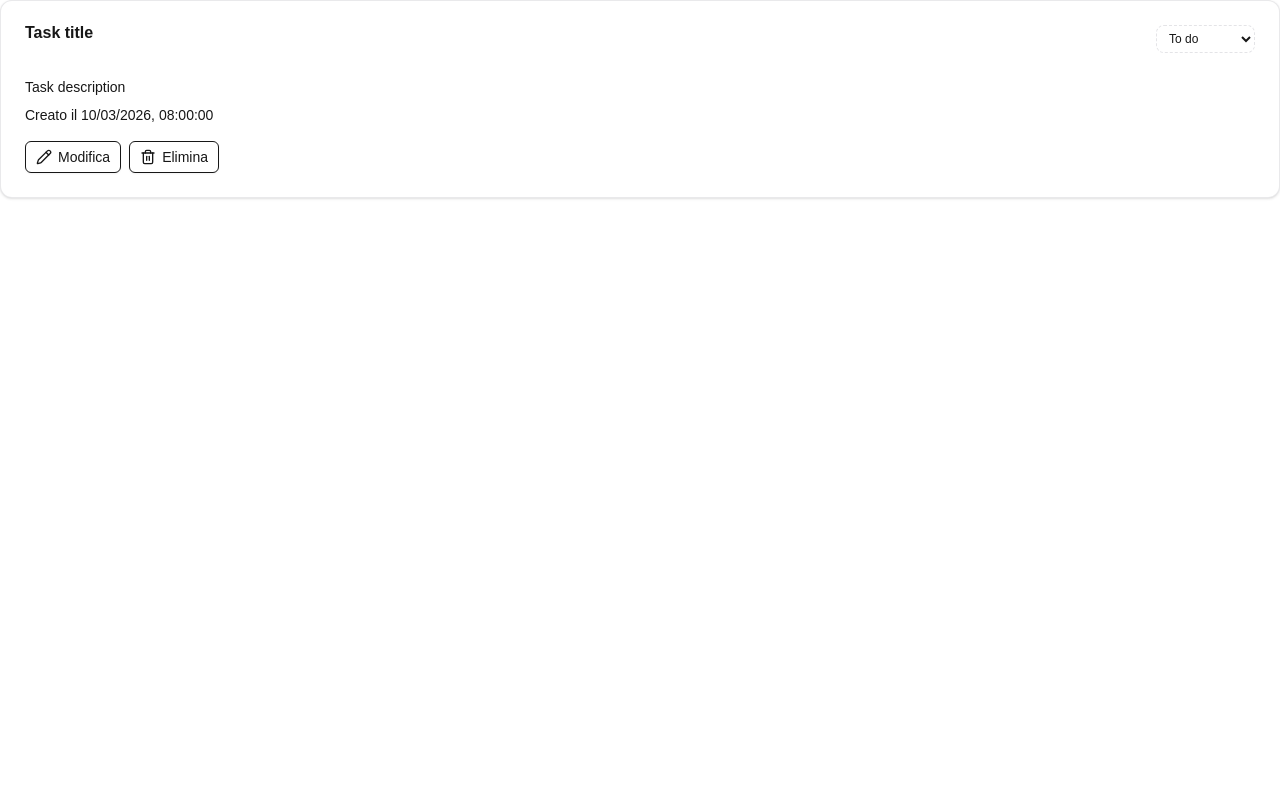
TaskCard › opens edit dialog and validates required fields
The image size is (1280, 800).
Click the button "Modifica": click(73, 157) [25, 141, 121, 173]
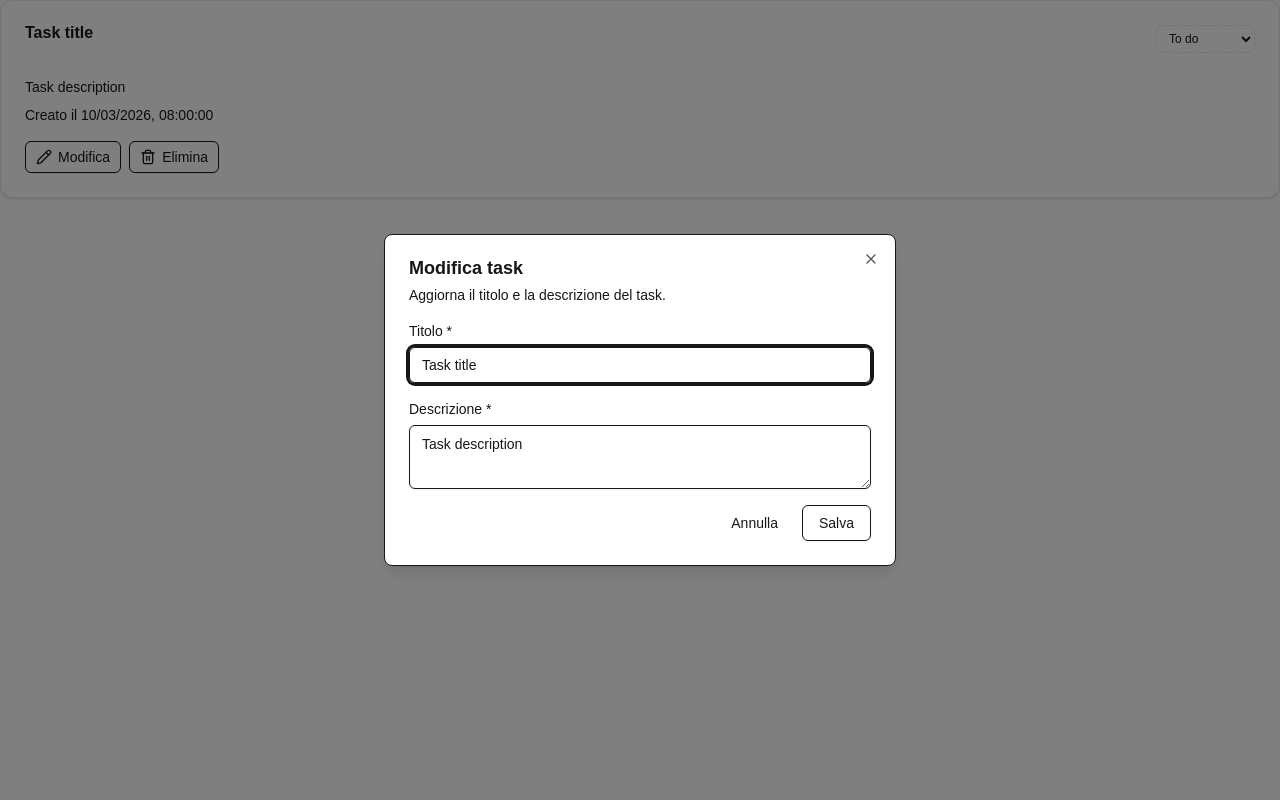
Clear the field labelled "Titolo *": (640, 365) [409, 347, 871, 383]
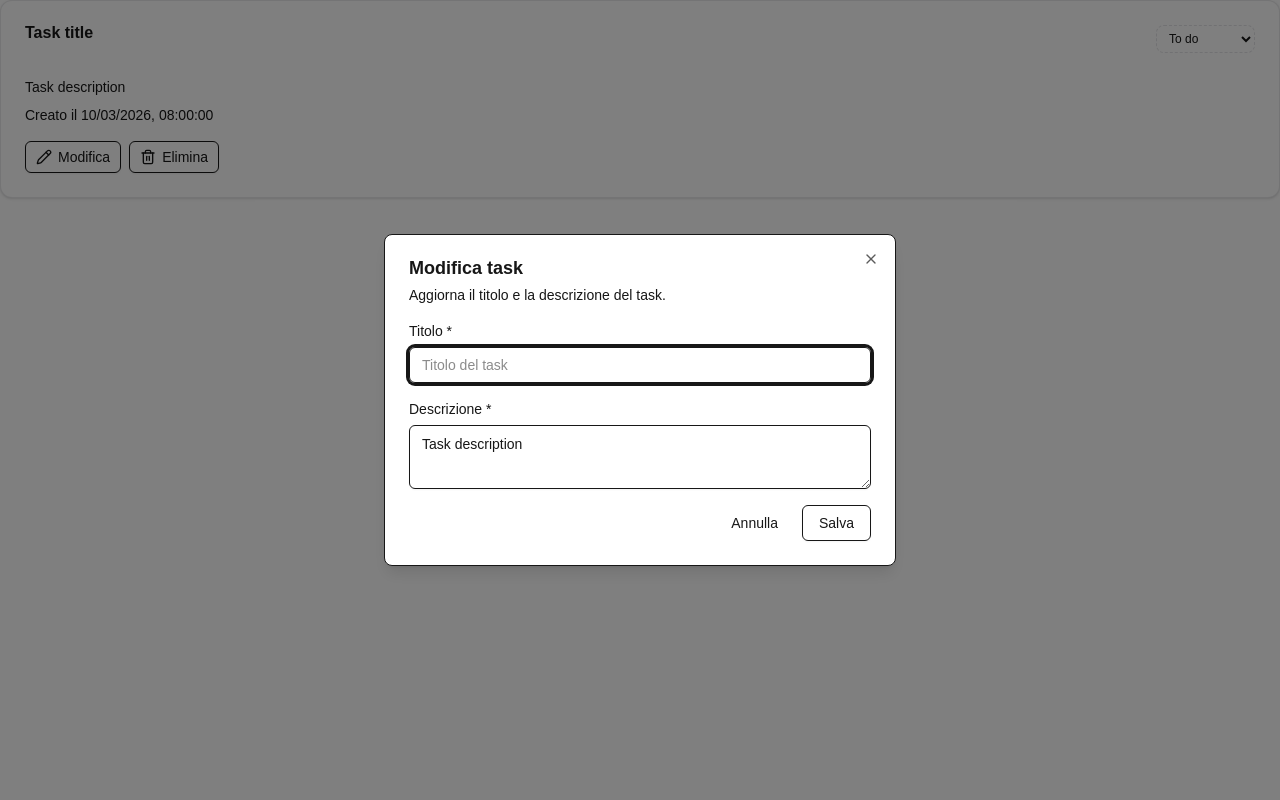
Clear the text box labelled "Descrizione *": (640, 457) [409, 425, 871, 489]
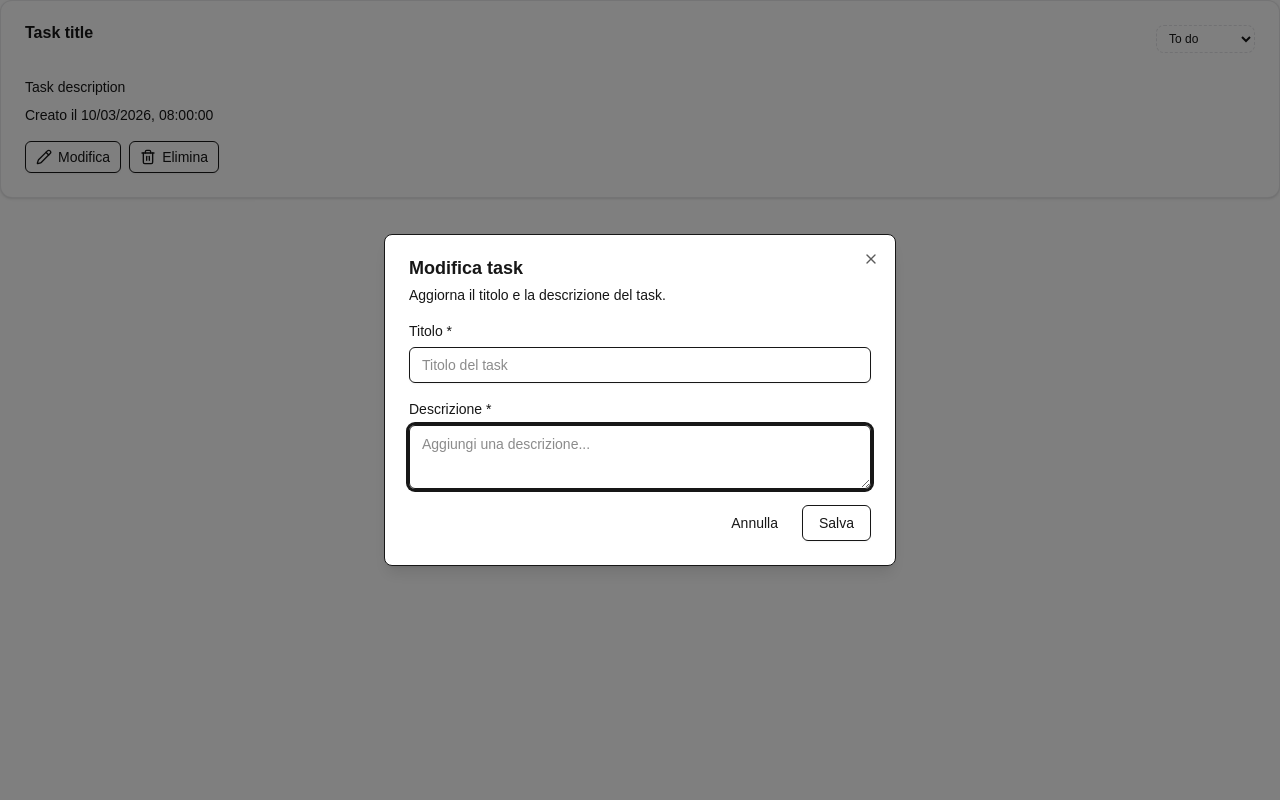
Click the button "Salva": click(836, 523) [802, 505, 871, 541]
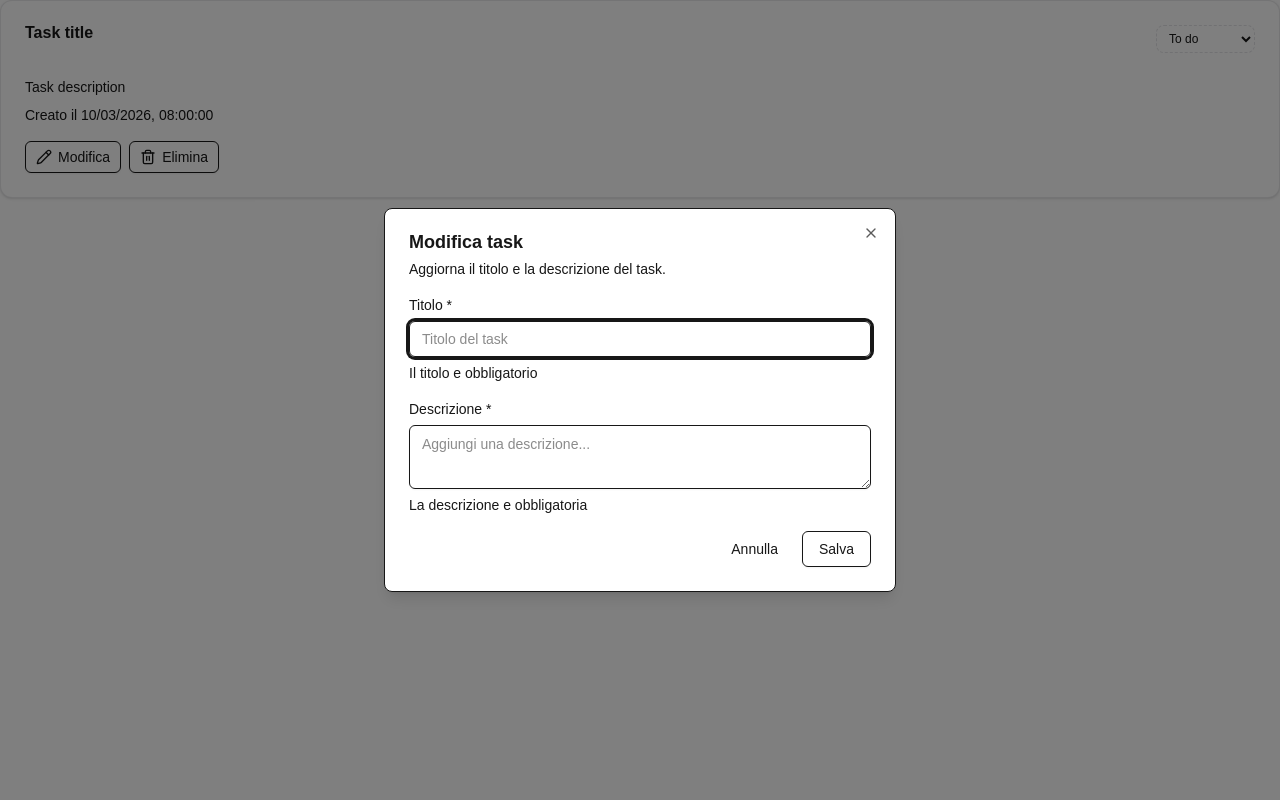
Result: the text "Il titolo e obbligatorio" is shown at [409, 365, 537, 381]
Result: the text "La descrizione e obbligatoria" is shown at [409, 497, 587, 513]
